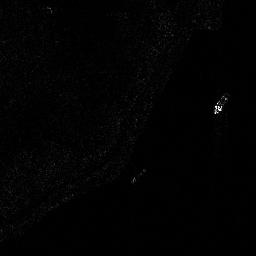ship: (214, 94, 227, 115)
